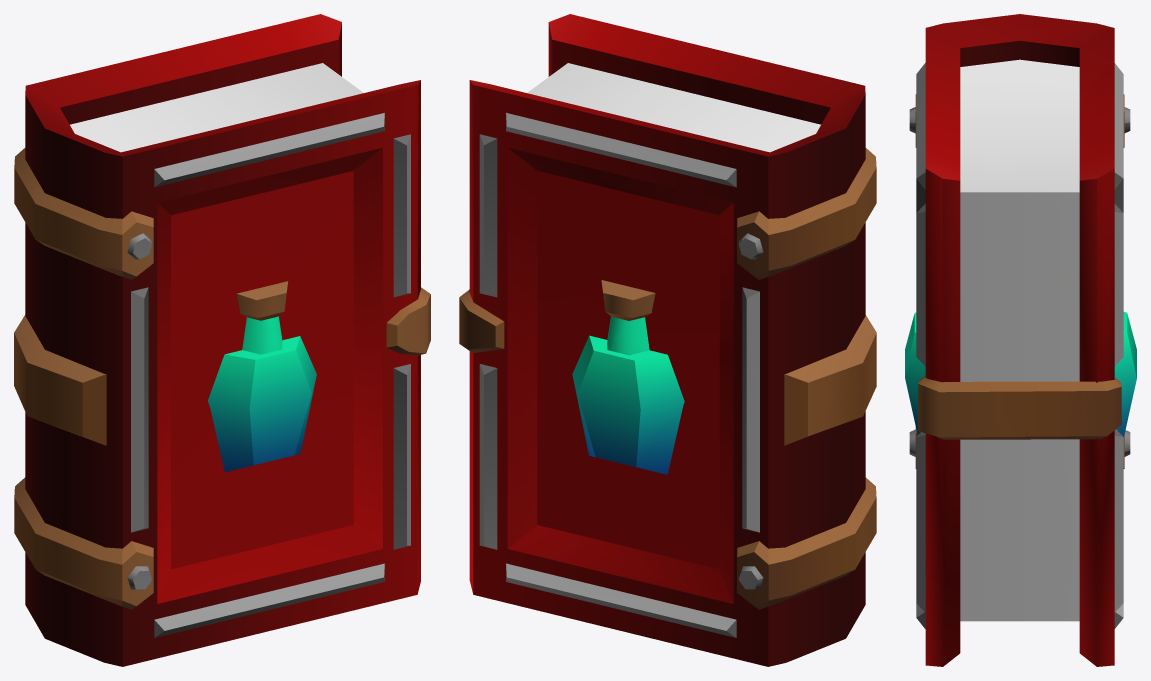
The model's file is SpellBook1h_20.fbx.
3 views of the same model, side by side, from view 1: azimuth 30°, elevation 25°; view 2: azimuth 150°, elevation 25°; view 3: azimuth 270°, elevation 25° (orthographic). The views are drawn at different scales.
Parts seen in each view (by area): view 1: SpellBook1h_20; view 2: SpellBook1h_20; view 3: SpellBook1h_20.
Part boxes in pixels (x1,y1,x2,y2): SpellBook1h_20: [14, 14, 430, 666]; SpellBook1h_20: [459, 14, 876, 666]; SpellBook1h_20: [905, 14, 1136, 666].
Size of the model in its own units: 33.34 by 44.9 by 18.96.
